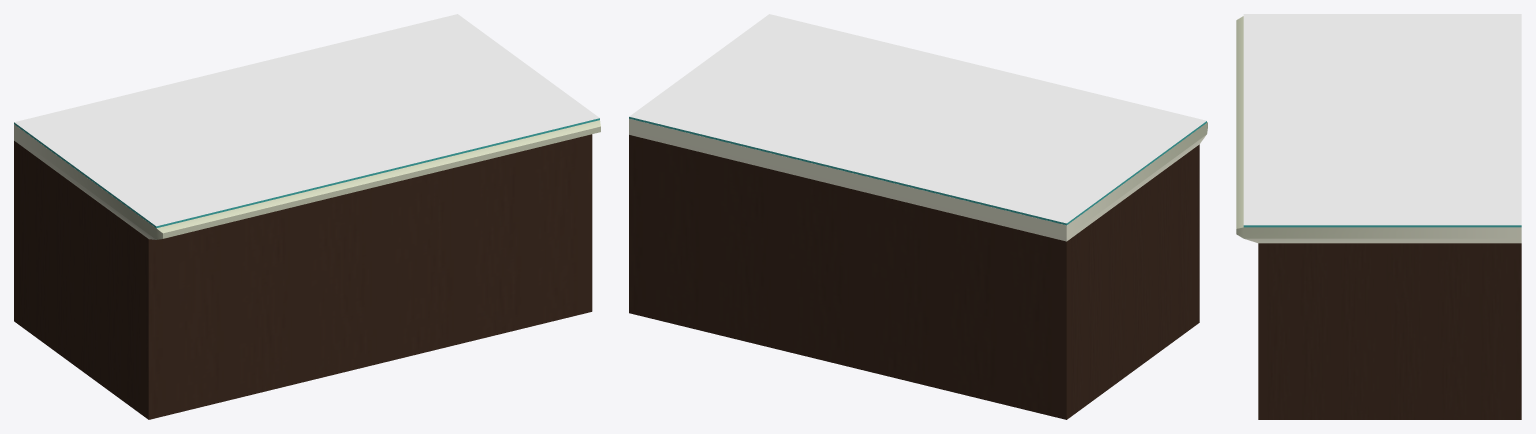
The model's file is Counter_03.FBX.
3 renders of one model, left to right at view 1: azimuth 30°, elevation 25°; view 2: azimuth 150°, elevation 25°; view 3: azimuth 270°, elevation 25°, orthographic. The views are drawn at different scales.
Parts seen in each view (by area): view 1: Countertop; view 2: Countertop; view 3: Countertop.
Boxes of the visible parts, x1=… form: Countertop: x1=14, y1=14, x2=600, y2=419; Countertop: x1=629, y1=14, x2=1207, y2=419; Countertop: x1=1236, y1=14, x2=1521, y2=419.
Bounding box in the file's own units: 350 × 150 × 199.
